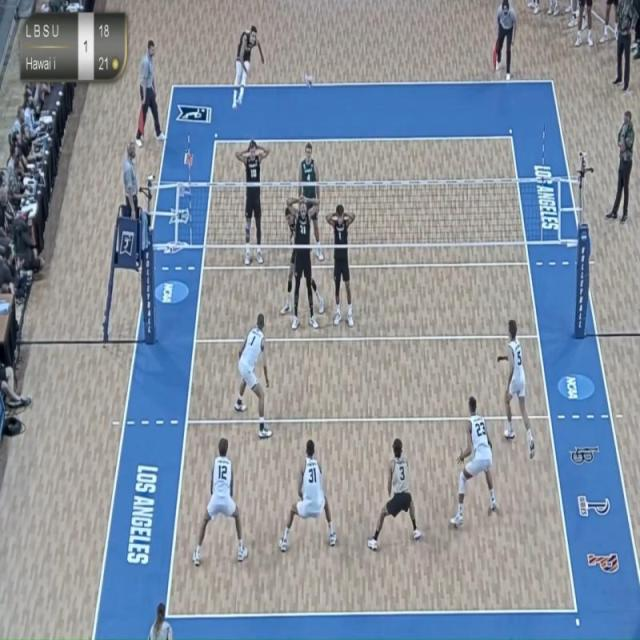volleyball: (302, 67, 315, 93)
